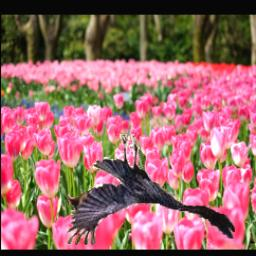Crow: (66, 133, 235, 247)
